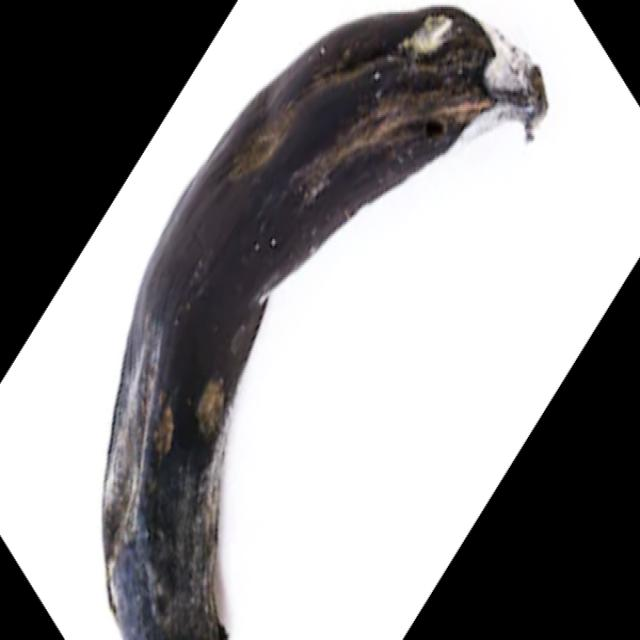Rotten: (101, 5, 546, 640)
